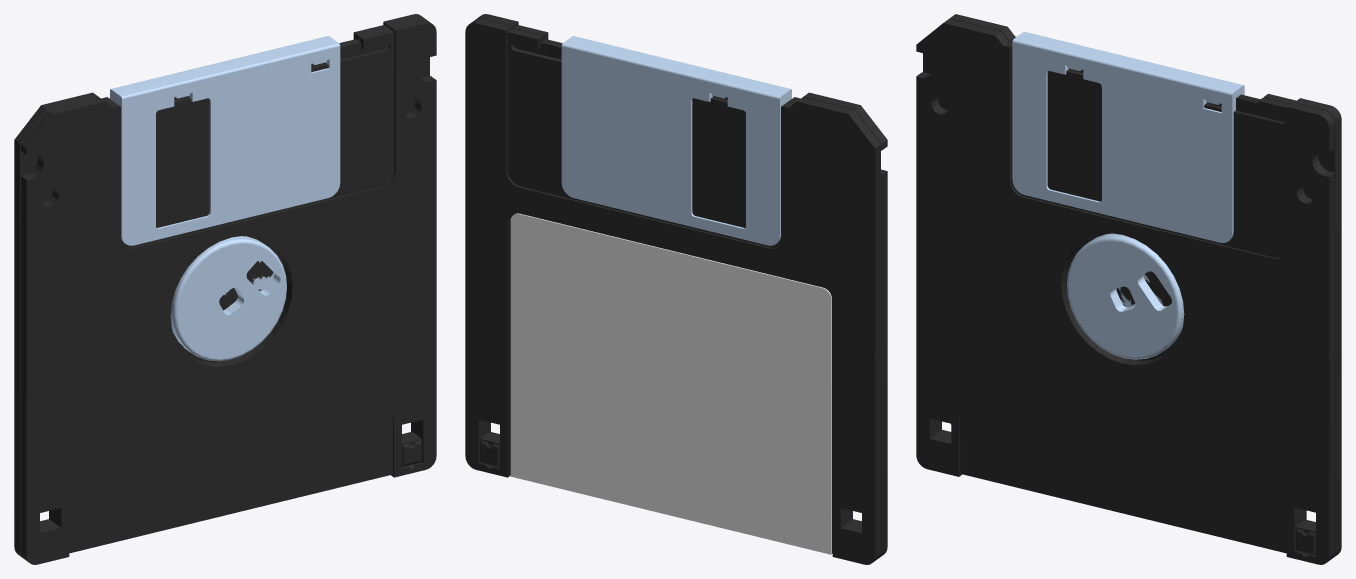
File: Floppy.fbx
3 renders of one model, left to right at view 1: azimuth 30°, elevation 25°; view 2: azimuth 150°, elevation 25°; view 3: azimuth 330°, elevation 25°, orthographic.
Parts seen in each view (by area): view 1: Cube.001, Plane, Cylinder.005; view 2: Cube.001, Plane; view 3: Cube.001, Plane, Cylinder.005.
Part boxes in pixels (x1,y1,x2,y2): Cube.001: (14, 14, 436, 564); Plane: (110, 36, 340, 245); Cylinder.005: (170, 236, 286, 361); Cube.001: (465, 14, 887, 564); Plane: (561, 36, 791, 245); Cube.001: (916, 14, 1341, 564); Plane: (1012, 31, 1244, 242); Cylinder.005: (1067, 233, 1184, 359).
Bounding box in the file's own units: 192 × 200 × 10.
